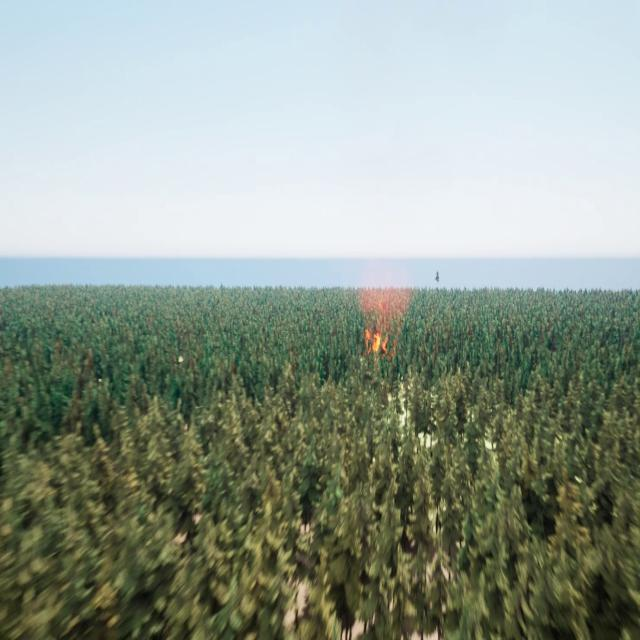fire: (365, 328, 392, 353)
smoke: (356, 266, 414, 326)
